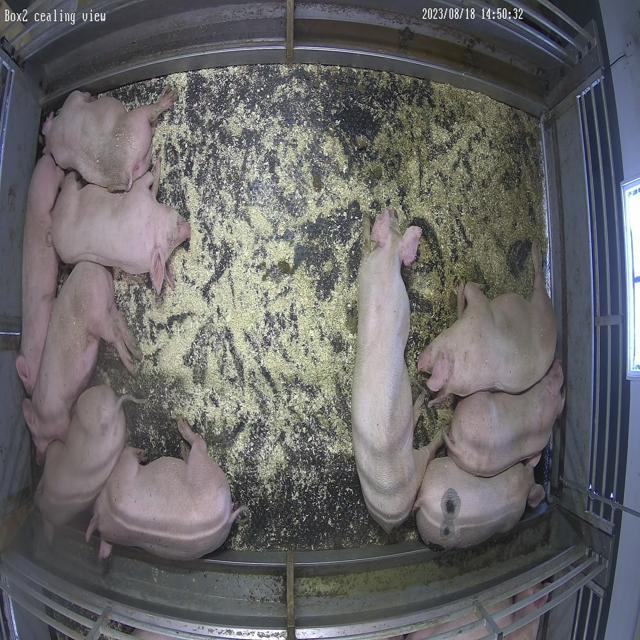Pig: (352, 210, 442, 532), (86, 420, 241, 562), (419, 244, 558, 402), (23, 263, 135, 458), (34, 386, 126, 542), (445, 360, 566, 478), (416, 458, 536, 550)
